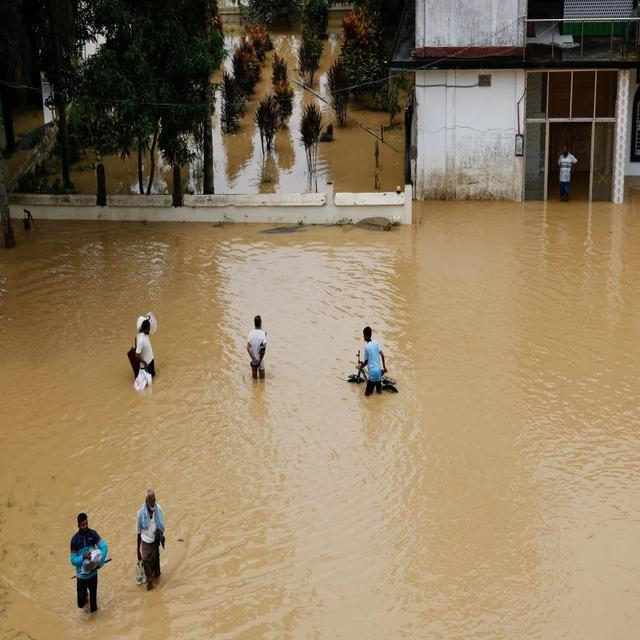Person-RiskLevel2: (123, 484, 174, 601), (60, 512, 113, 621), (350, 318, 410, 410), (122, 307, 168, 387), (235, 314, 280, 386), (555, 140, 579, 206)
